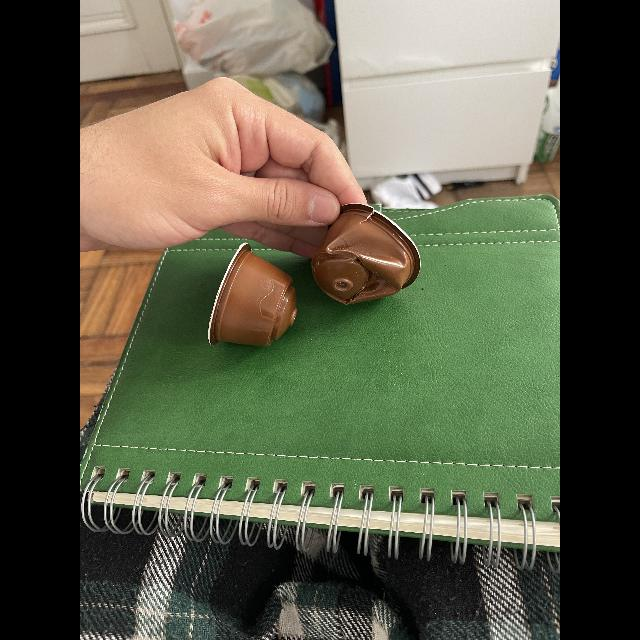damaged_capsule: (308, 186, 428, 308)
intact_capsule: (198, 235, 312, 353)
